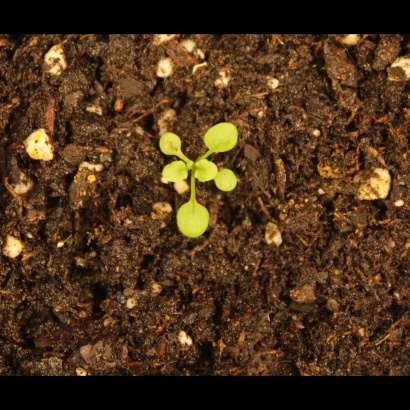leaf: (172, 200, 213, 241), (202, 118, 241, 156), (159, 159, 192, 185), (156, 131, 185, 159), (213, 168, 241, 194), (193, 159, 220, 184)
